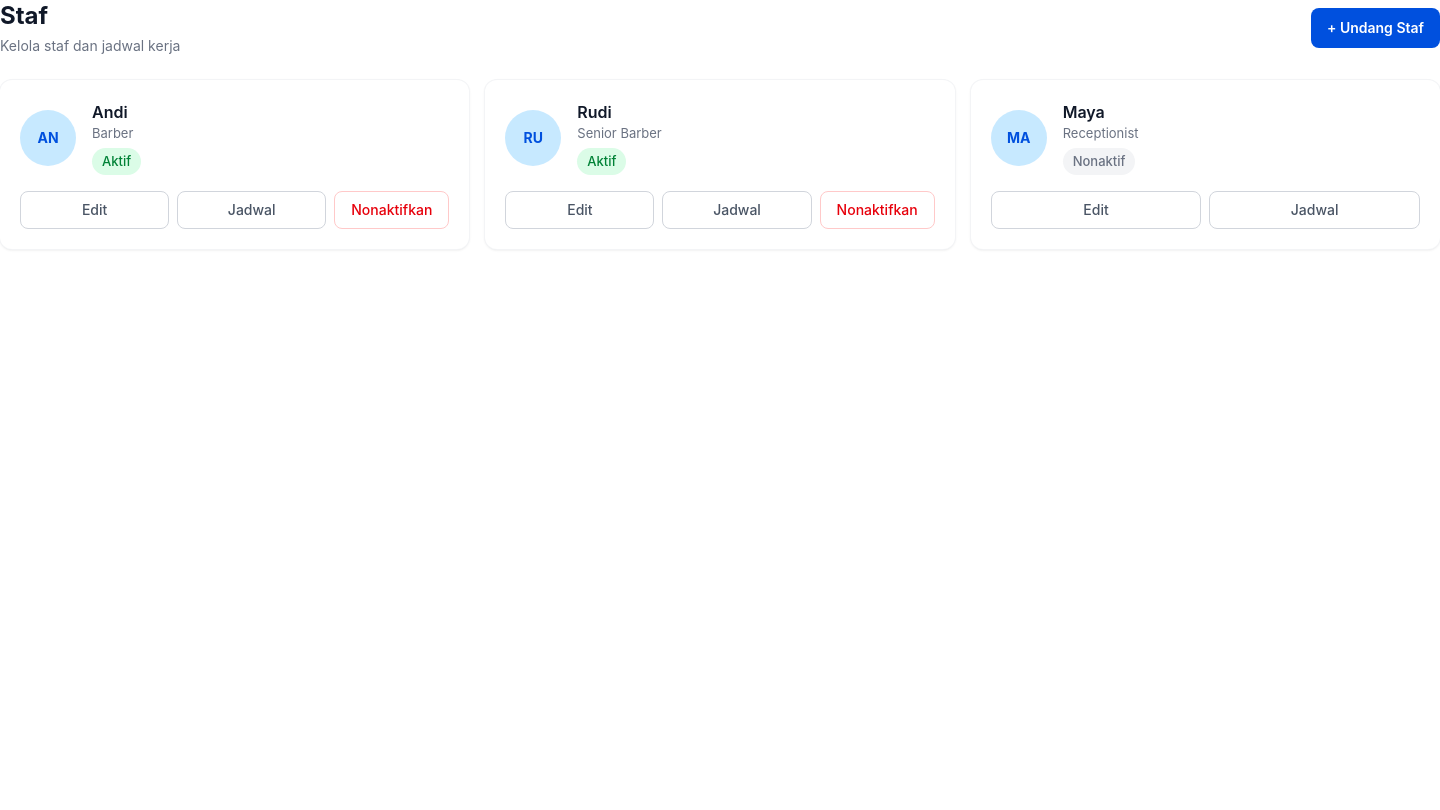
Test: StaffPage › opens invite modal when clicking Undang Staf
Expected: the heading "Andi" is shown, [92,102,128,122]
Click the button "+ Undang Staf".
click(1376, 28)  # box [1311,8,1439,48]
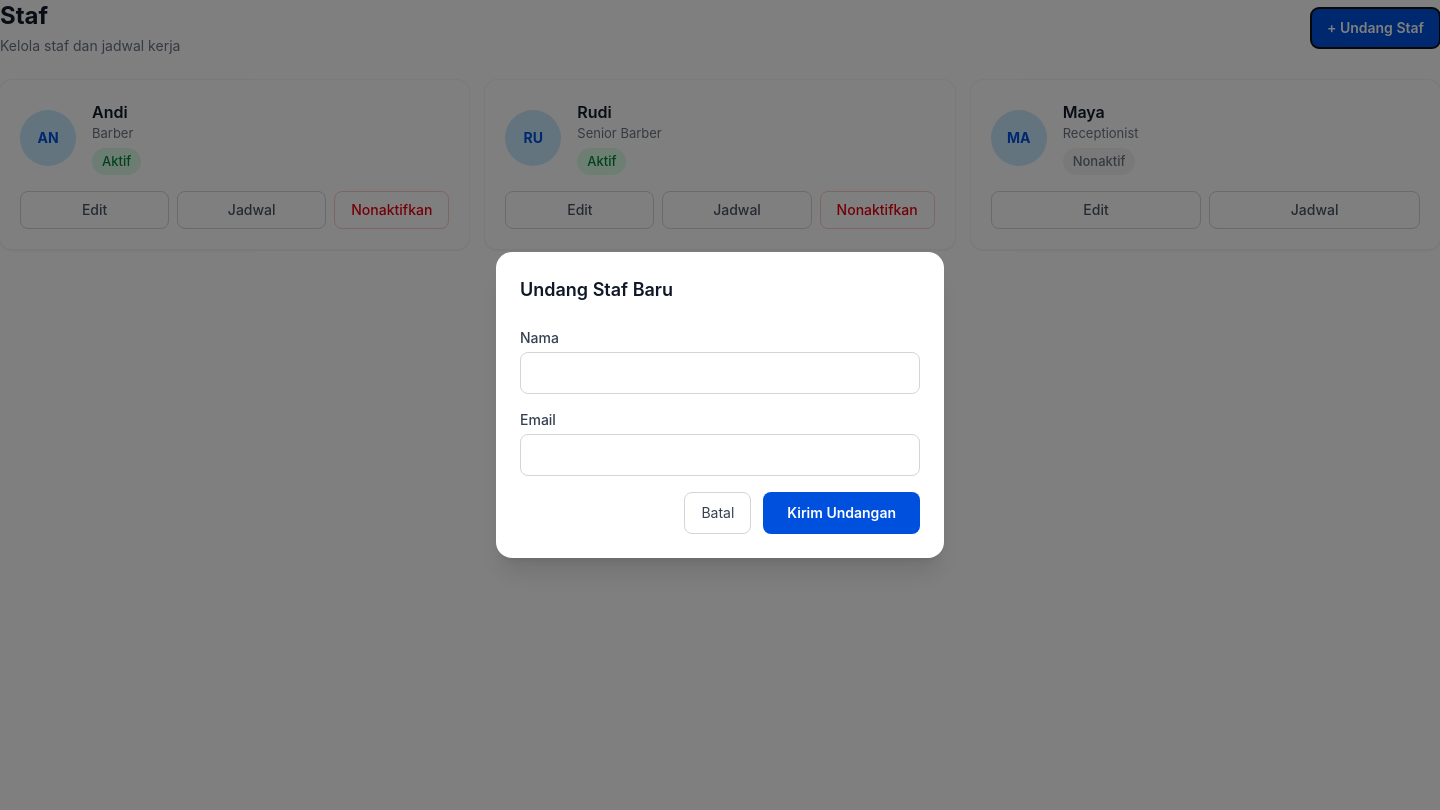
Now the heading "Undang Staf Baru" is shown, box [520,279,673,300]
Now the button "Kirim Undangan" is shown, box [763,492,920,534]
